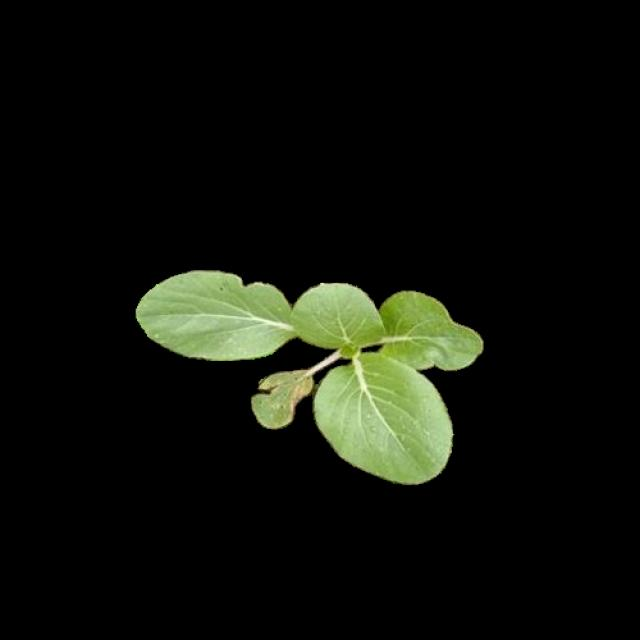not-mature: (136, 272, 481, 483)
unhealthy: (252, 370, 314, 427)
